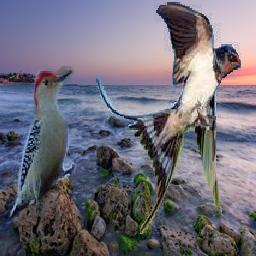Swallow: (97, 2, 242, 234)
Woodpecker: (8, 66, 74, 220)
